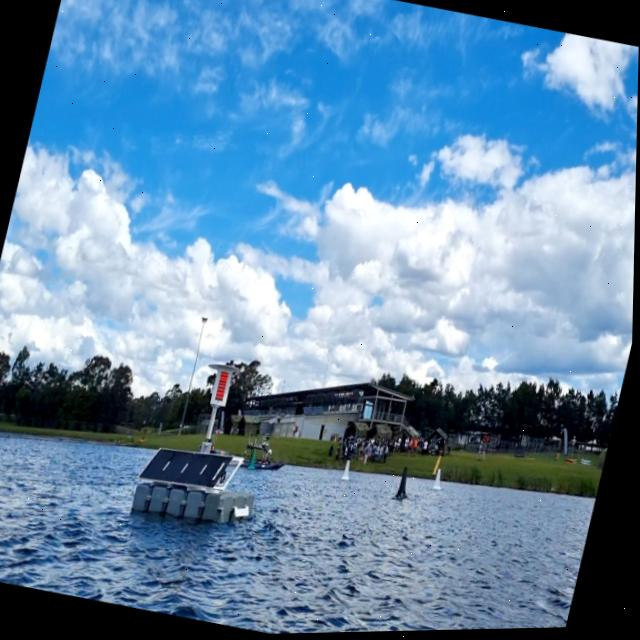led: (212, 369, 233, 406)
